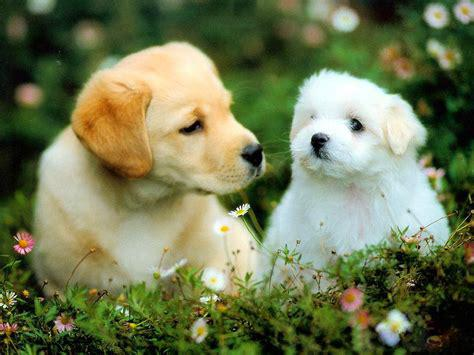dog: (33, 43, 266, 291), (263, 70, 448, 286)
